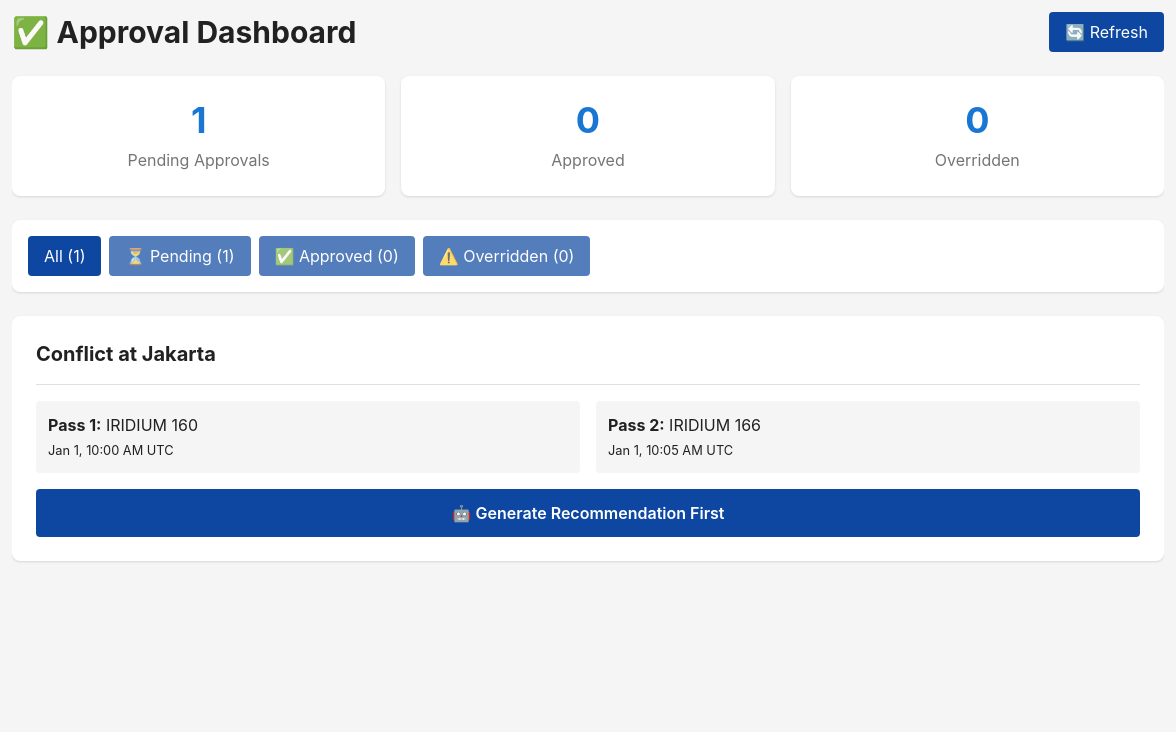
Approvals › shows approve/override after recommendation
Click the button "🤖 Generate Recommendation First" at (588, 513), box [36,489,1140,537]
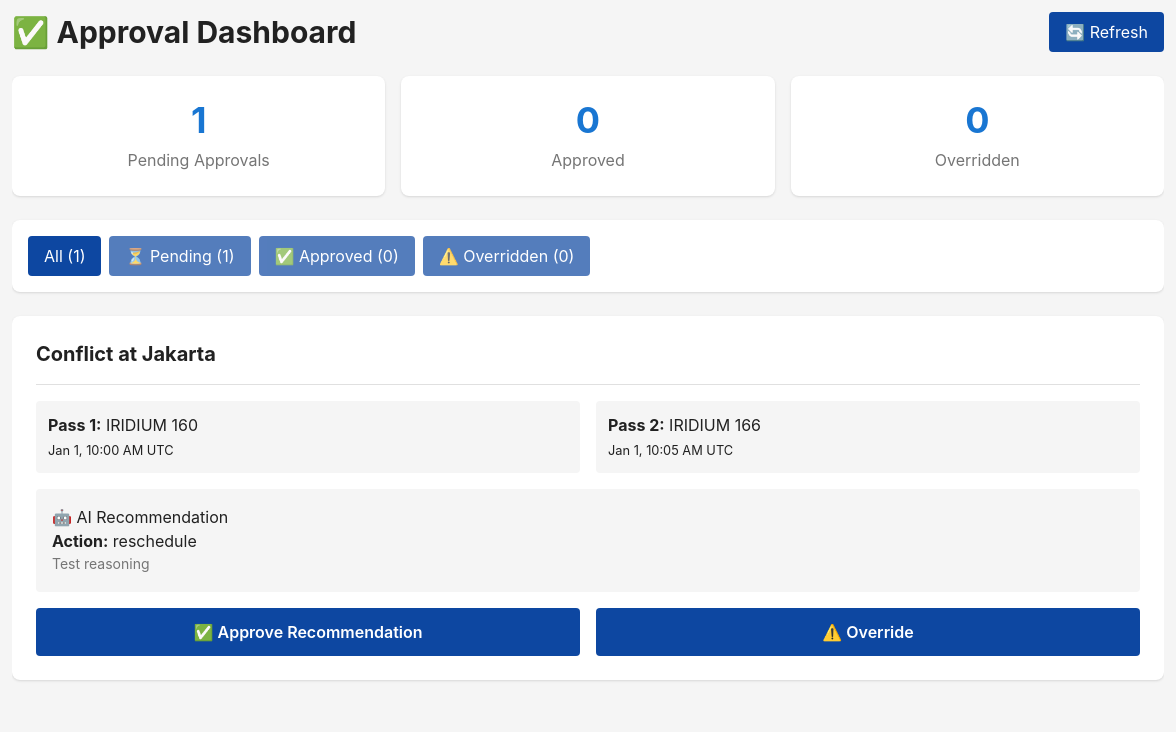
Expected: the button "✅ Approve Recommendation" is shown, [36,608,580,656]
Expected: the button "⚠️ Override" is shown, [596,608,1140,656]
